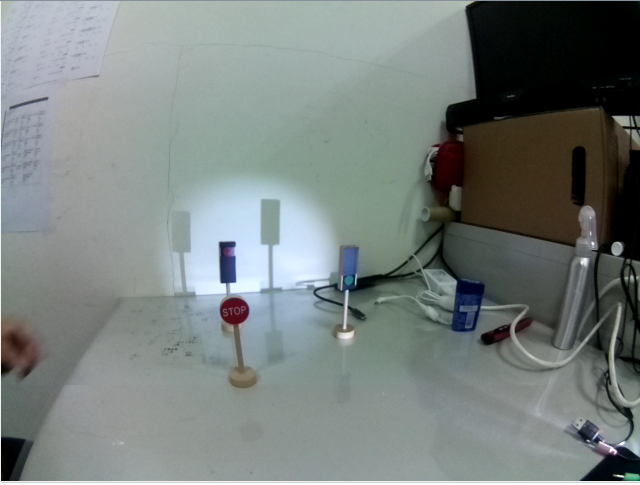Green: (339, 241, 359, 294)
Red: (216, 235, 240, 286)
Stop: (217, 296, 252, 325)
